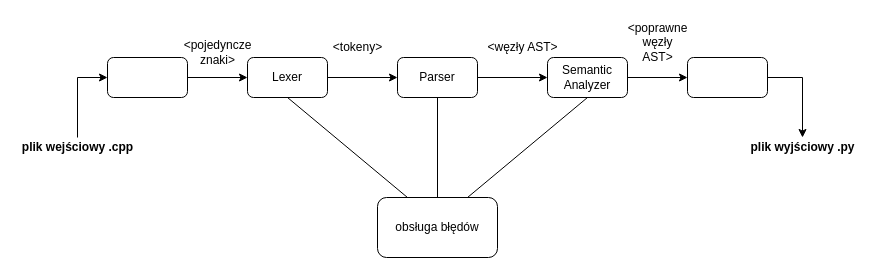
The diagram is 874 pixels wide and 275 high, and some of its shapes have lost their labels. Here are the shapes that lost their labels. From the top down, the centre of each, then its label:
the point at 147,77: Code Provider
the point at 727,77: Code Generator
